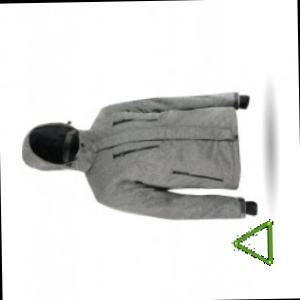triangle: (229, 216, 278, 268)
